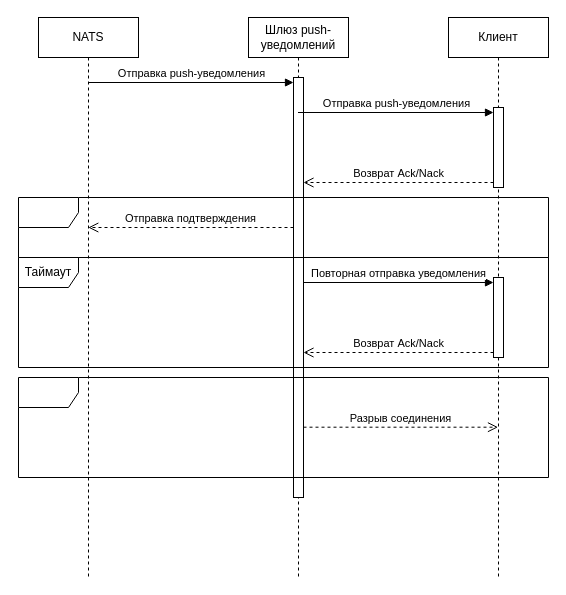
Image size: 566x595. Some labels were removed from this diagram. Here are the shapes that lost their labels. From the top down, the centre of each, then its label:
[283,227]: Ack/Nack
[283,427]: Повторный таймаут
